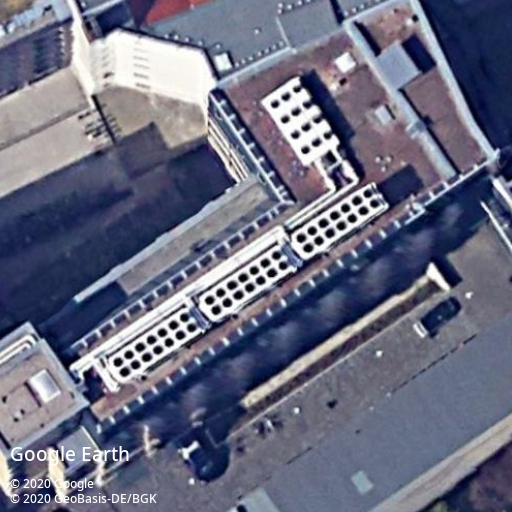Chiller: (197, 243, 296, 322), (290, 182, 389, 259), (105, 306, 204, 383), (260, 76, 340, 167)
